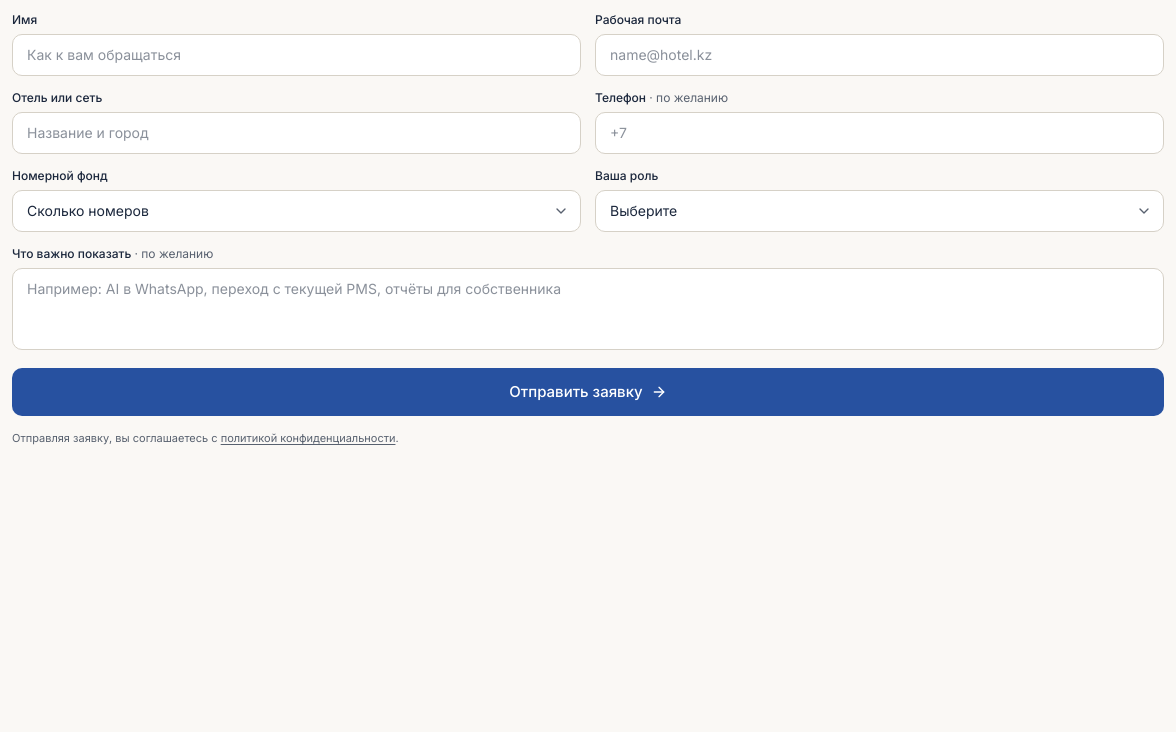
Test: LeadForm › offers the sales email when sending fails
Type "Тест" into the field with placeholder "Как к вам обращаться" at (296, 55), box [12,34,581,76]
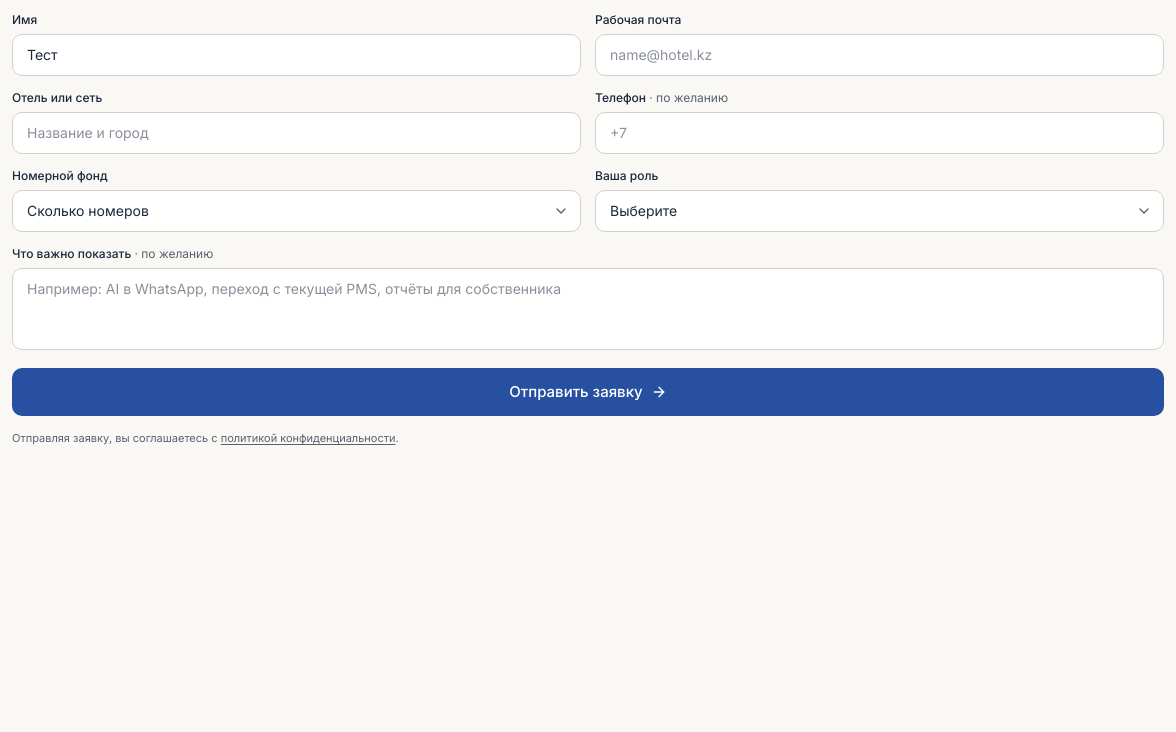
Type "test@example.com" into the field with placeholder "name@hotel.kz" at (880, 55), box [595,34,1164,76]
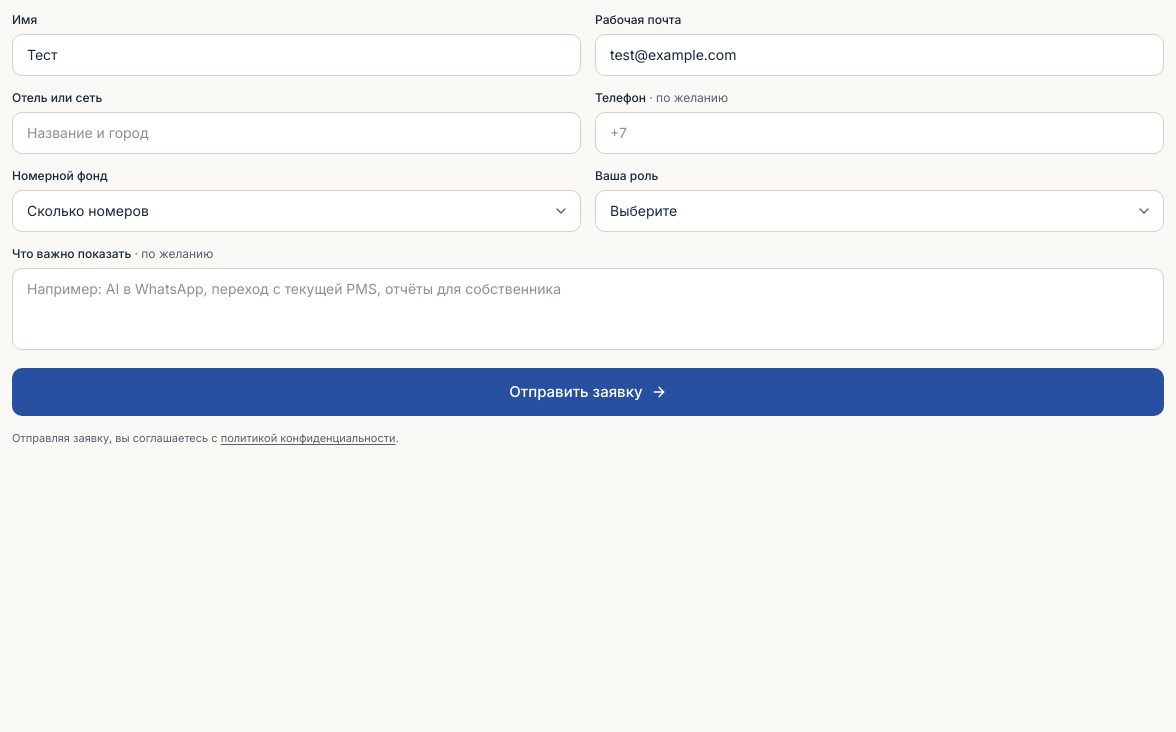
Type "Тестовый отель" into the field with placeholder "Название и город" at (296, 133), box [12,112,581,154]
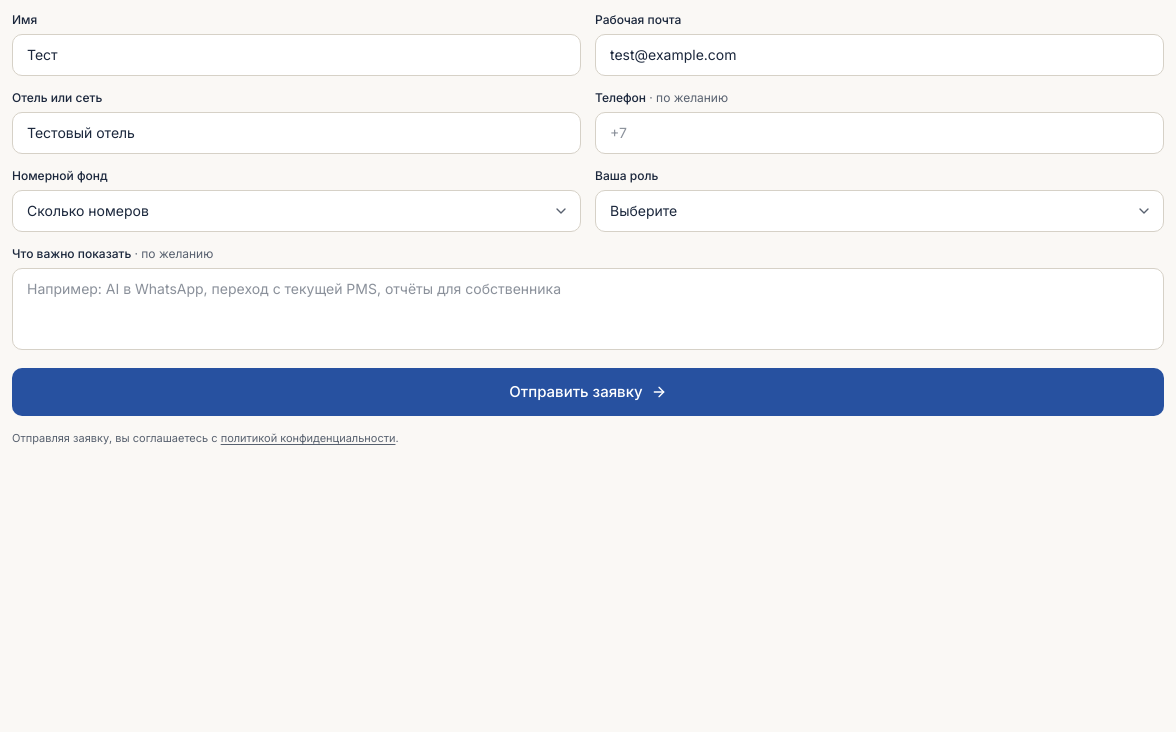
Click the button "Отправить заявку" at (588, 392), box [12,368,1164,416]
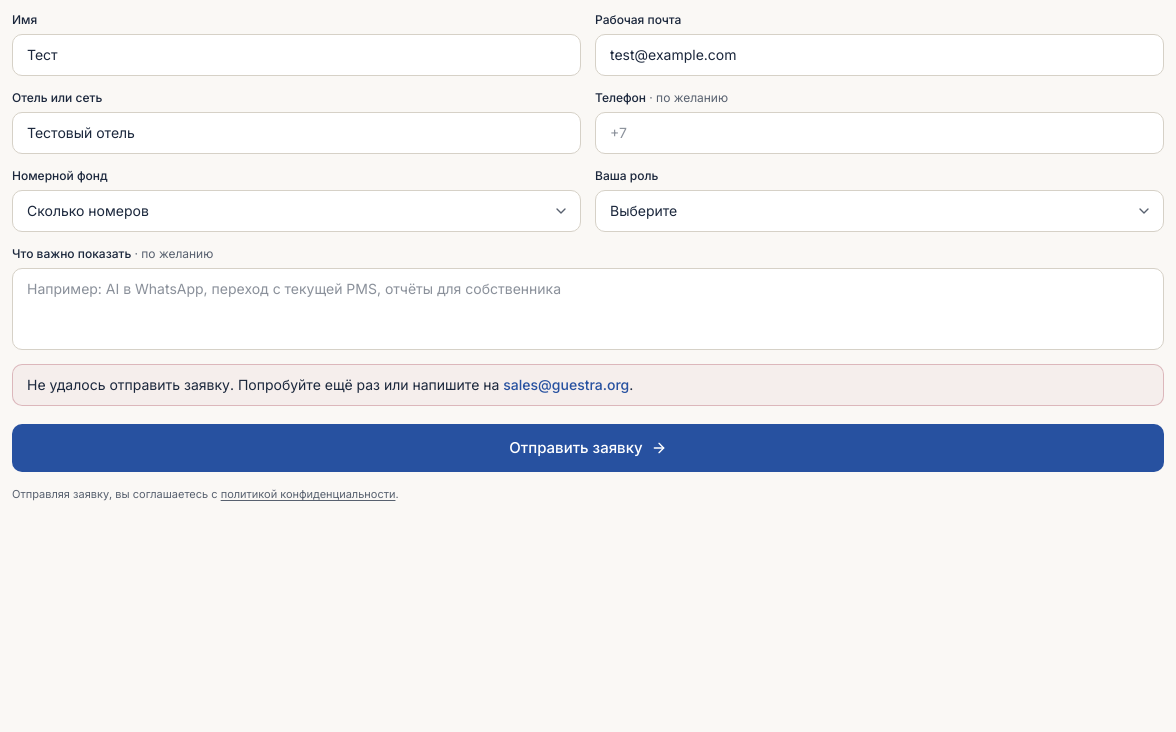
expect the message shows "sales@guestra.org": met, box [503,376,629,393]
